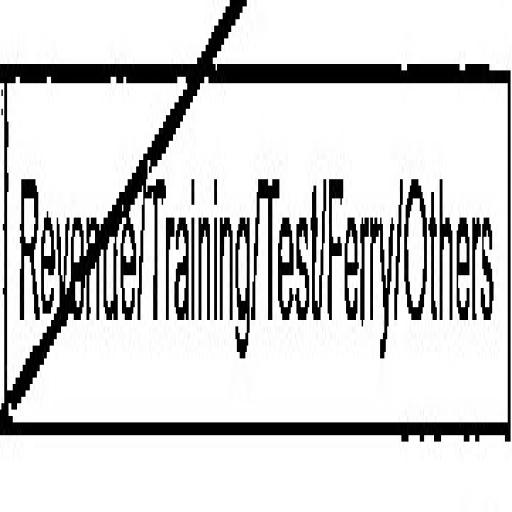check: (1, 0, 146, 502)
